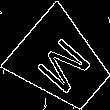M_SE: (28, 29, 95, 97)
